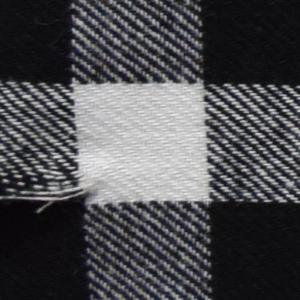Damage: (1, 168, 108, 220)
